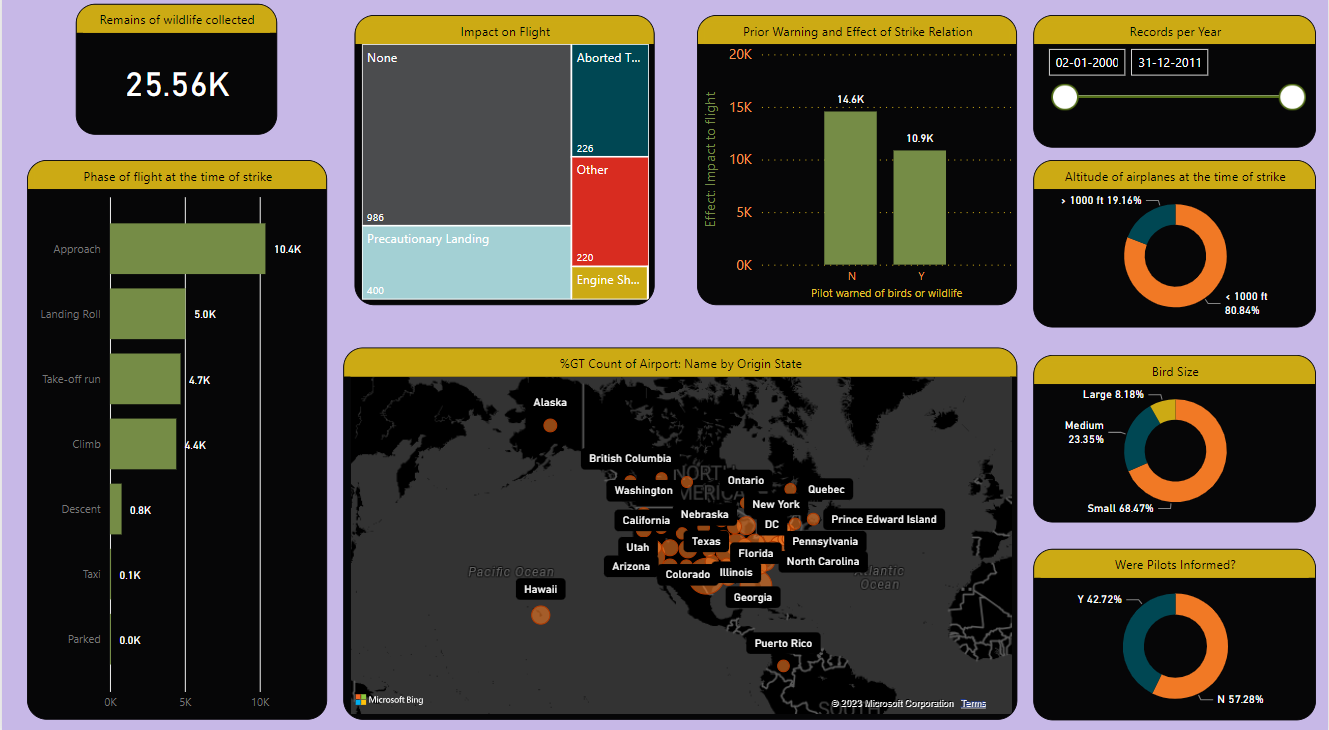

The page's visual inventory and layout, read from the dashboard file:
{"tool":"powerbi","page":{"name":"2","canvas":[1280,720],"ordinal":1},"visuals":[{"type":"clusteredBarChart","title":"Phase of flight at the time of strike","fields":{"Category":["Bird Strikes.When: Phase of flight"],"Y":["CountNonNull(Bird Strikes.When: Phase of flight)"]},"box":[24.1,164,289.4,540.3],"z":0},{"type":"donutChart","title":"Altitude of airplanes at the time of strike","fields":{"Category":["Bird Strikes.Altitude bin"],"Y":["CountNonNull(Bird Strikes.Altitude bin)"]},"box":[995,164,272.6,161.6],"z":1000},{"type":"treemap","title":"Impact on Flight","fields":{"Values":["Count(Bird Strikes.Airport: Name)"],"Group":["Bird Strikes.Effect: Impact to flight"]},"box":[340.1,24.1,289.4,279.8],"z":2000},{"type":"donutChart","title":"Were Pilots Informed?","fields":{"Category":["Bird Strikes.Pilot warned of birds or wildlife?"],"Y":["CountNonNull(Bird Strikes.Pilot warned of birds or wildlife?)"]},"box":[995,539.1,272.6,165.2],"z":3000},{"type":"donutChart","title":"Bird Size","fields":{"Category":["Bird Strikes.Wildlife: Size"],"Y":["CountNonNull(Bird Strikes.Wildlife: Size)"]},"box":[995,351.6,272.6,161.6],"z":4000},{"type":"map","fields":{"Category":["Bird Strikes.Origin State"],"Size":["CountNonNull(Bird Strikes.Airport: Name)"]},"box":[329.2,344.9,650.1,359.4],"z":5000},{"type":"columnChart","title":"Prior Warning and Effect of Strike Relation","fields":{"Y":["CountNonNull(Bird Strikes.Effect: Impact to flight)"],"Category":["Bird Strikes.Pilot warned of birds or wildlife?"]},"box":[670.6,24.1,308.7,279.8],"z":6000},{"type":"card","title":"Remains of wildlife collected","fields":{"Values":["CountNonNull(Bird Strikes.Remains of wildlife collected?)"]},"box":[71.2,13.3,194.2,126.6],"z":7000},{"type":"slicer","title":"Records per Year","fields":{"Values":["Bird Strikes.FlightDate"]},"box":[995,24.1,272.6,127.8],"z":8000}]}

Visuals, with their boxes in screenshot pixels (x1, y1, x2, y2), scaled from the page's 1280x720 canvas onto the 1329x730 screenshot:
"Phase of flight at the time of strike" clusteredBarChart: (left=25, top=166, right=326, bottom=714)
"Altitude of airplanes at the time of strike" donutChart: (left=1033, top=166, right=1316, bottom=330)
"Impact on Flight" treemap: (left=353, top=24, right=654, bottom=308)
"Were Pilots Informed?" donutChart: (left=1033, top=547, right=1316, bottom=714)
"Bird Size" donutChart: (left=1033, top=356, right=1316, bottom=520)
map - Bird Strikes.Origin State x CountNonNull(Bird Strikes.Airport: Name): (left=342, top=350, right=1017, bottom=714)
"Prior Warning and Effect of Strike Relation" columnChart: (left=696, top=24, right=1017, bottom=308)
"Remains of wildlife collected" card: (left=74, top=13, right=276, bottom=142)
"Records per Year" slicer: (left=1033, top=24, right=1316, bottom=154)
